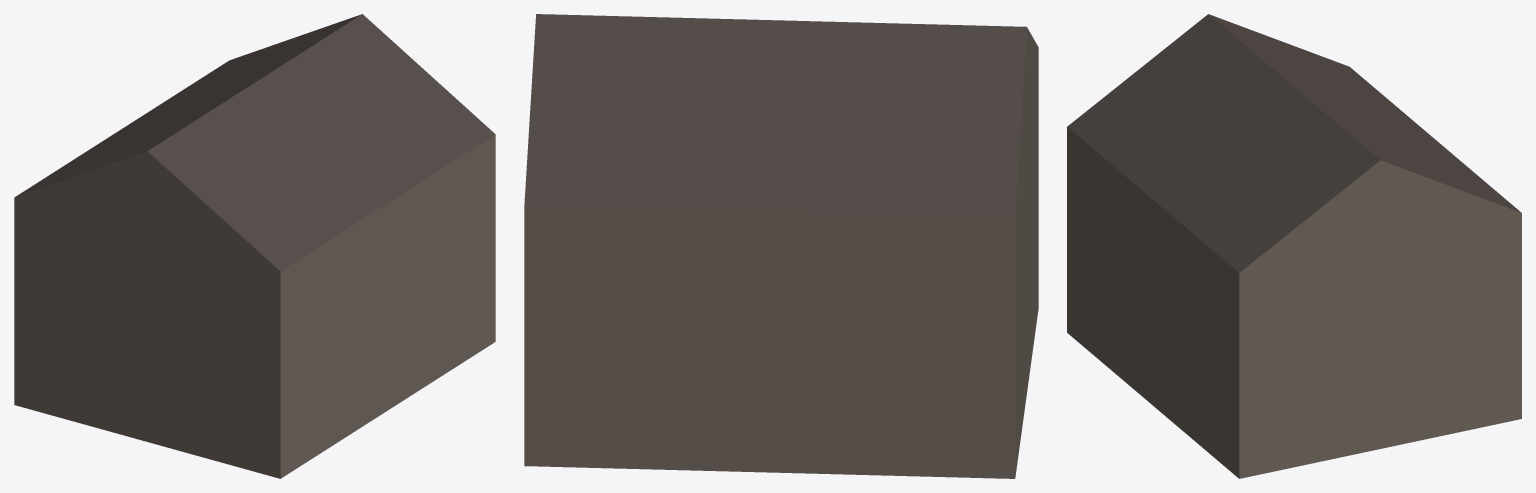
3 renders of one model, left to right at view 1: azimuth 30°, elevation 25°; view 2: azimuth 150°, elevation 25°; view 3: azimuth 270°, elevation 25°, orthographic. The views are drawn at different scales.
Visible parts, largest first — view 1: HP-w859088503; view 2: HP-w859088503; view 3: HP-w859088503.
Boxes of the visible parts, x1,y1,x2,y2 form: HP-w859088503: (14, 14, 495, 478); HP-w859088503: (524, 14, 1038, 478); HP-w859088503: (1067, 14, 1521, 478).
Bounding box in the file's own units: 19.32 × 12.61 × 18.01.
